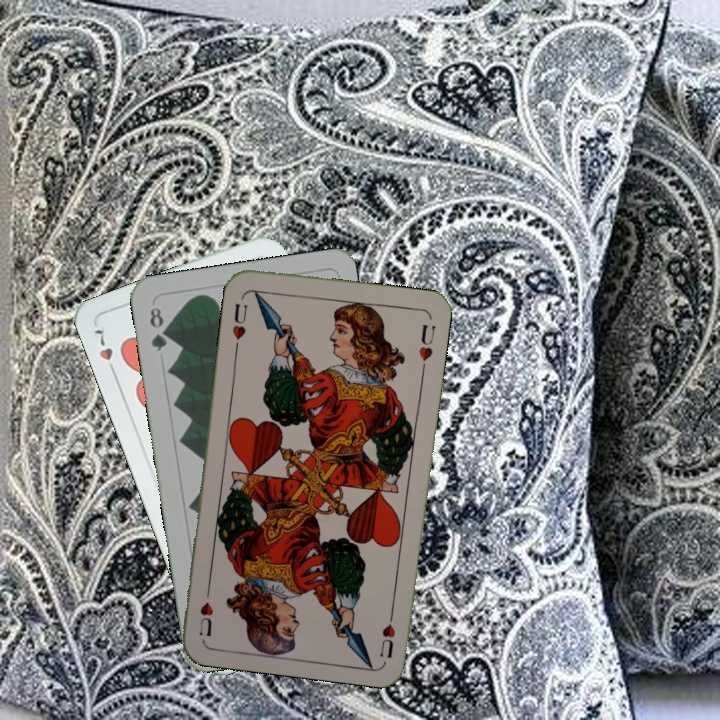G8: (145, 303, 170, 354)
H7: (90, 323, 120, 379)
HU: (376, 603, 398, 661), (228, 299, 250, 351)
